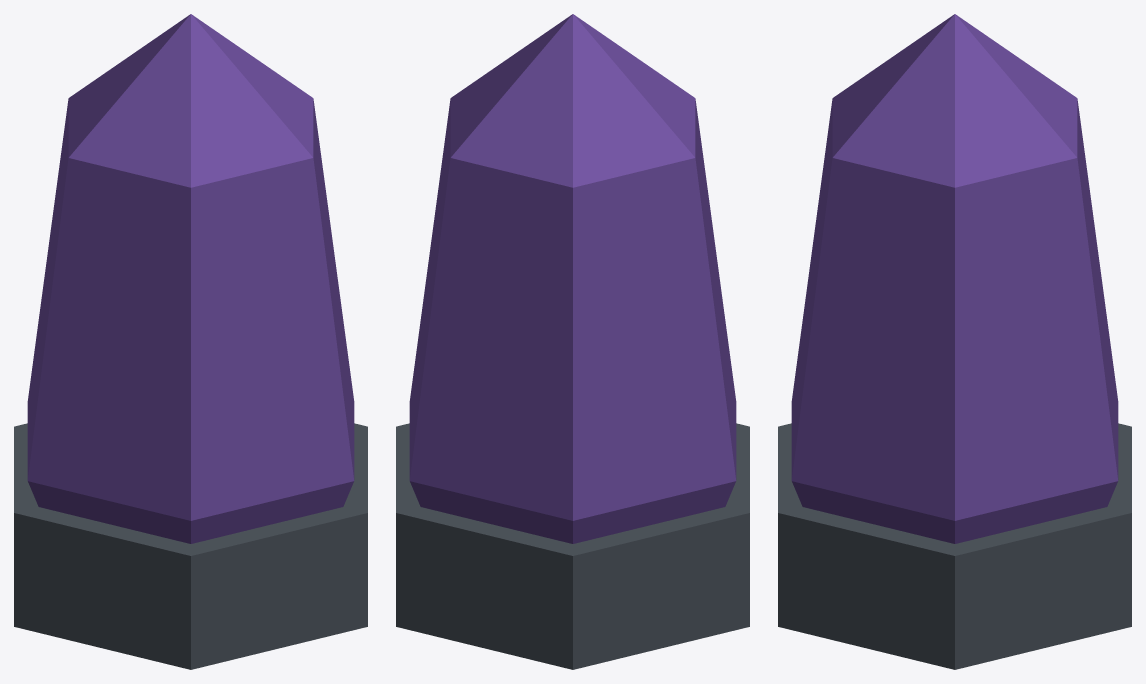
The model's file is SH_Translator_01.glb.
The picture shows the model from 3 angles, left to right: view 1: azimuth 30°, elevation 25°; view 2: azimuth 150°, elevation 25°; view 3: azimuth 270°, elevation 25°; orthographic projection.
Visible parts, largest first — view 1: SH_Translator_01; view 2: SH_Translator_01; view 3: SH_Translator_01.
Boxes of the visible parts, bbox=[...] form: SH_Translator_01: bbox=[14, 14, 367, 669]; SH_Translator_01: bbox=[396, 14, 749, 669]; SH_Translator_01: bbox=[778, 14, 1131, 669].
Bounding box in the file's own units: 0.13 × 0.2 × 0.1126.
1 material, 1 textured.
